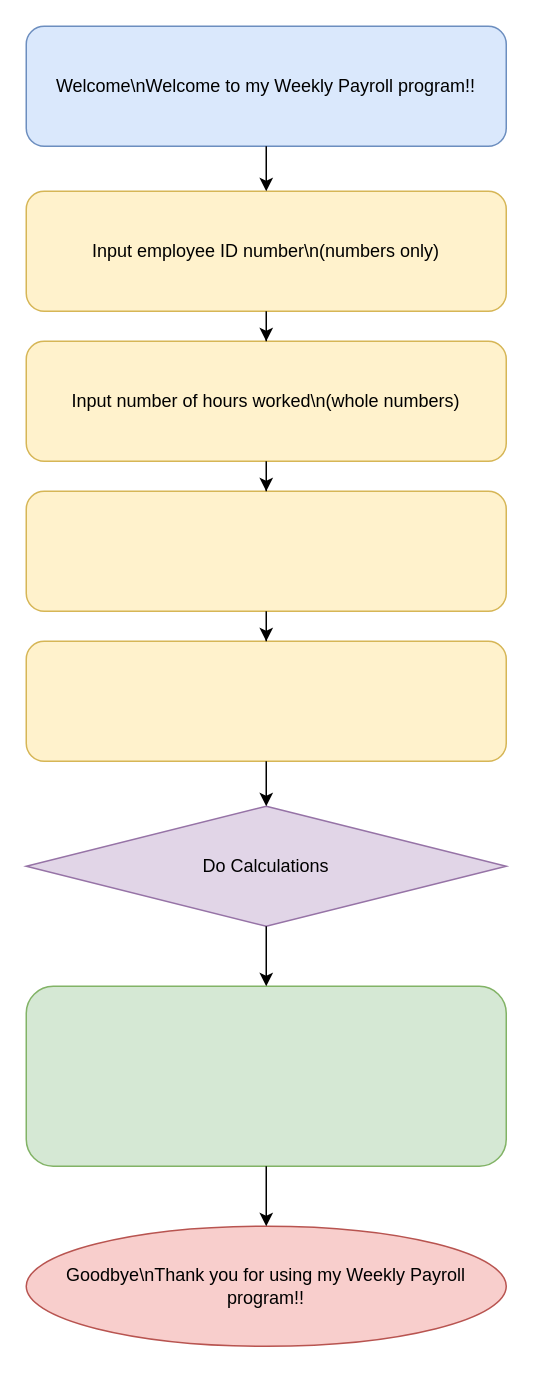
This 533x1373 diagram has some shape labels left out. Each missing label, with the box of its shape:
Input the federal withholding rate: (25, 640, 506, 761)
Input the hourly rate: (25, 490, 506, 611)
Your Payroll Summary:\n- Gross Pay\n- Federal Tax Withholding\n- Net Pay: (25, 985, 506, 1166)
